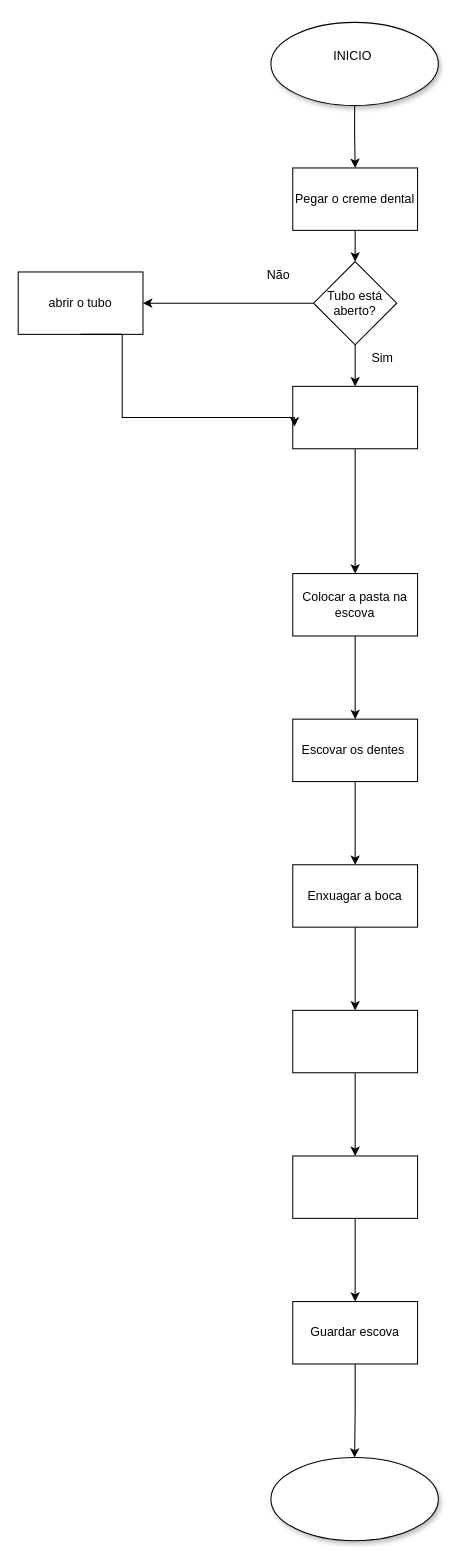
Some shapes in this 463 by 1566 pixel diagram are drawn without their labels. Each missing label, with the centre of its shape:
FIM: pixel 355 1500
Guardar creme dental: pixel 355 1186
Pegar a escova: pixel 355 417
Tampar tudo: pixel 355 1041
